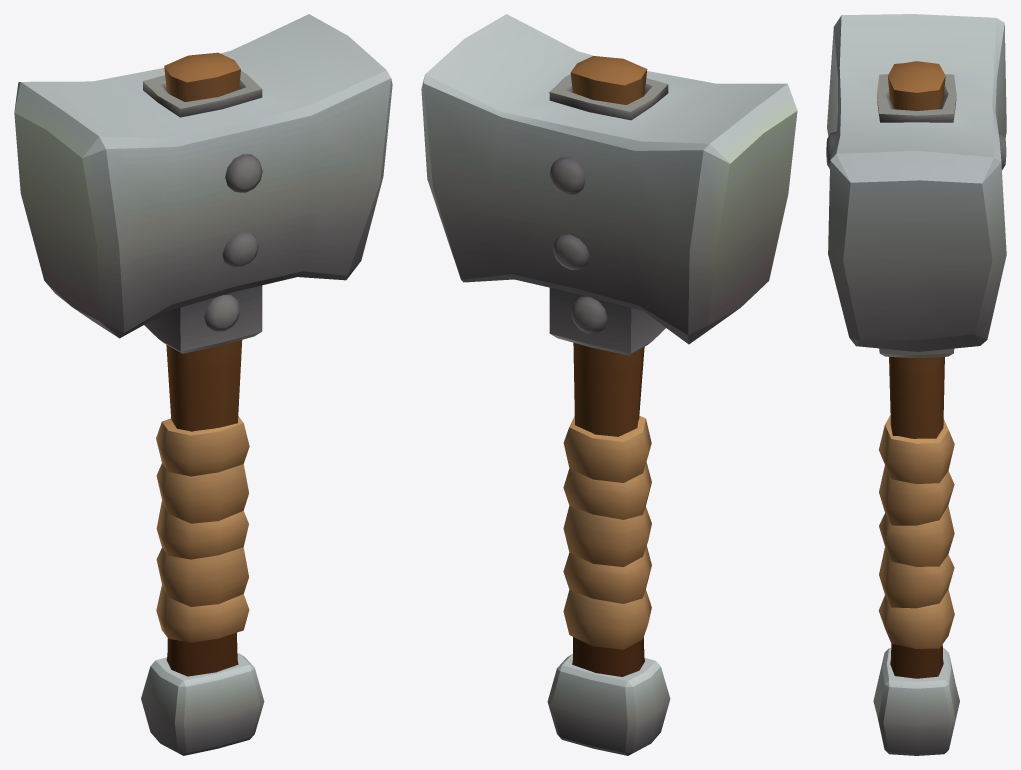
File: Hammer_05.glb
3 views of the same model, side by side, from view 1: azimuth 30°, elevation 25°; view 2: azimuth 150°, elevation 25°; view 3: azimuth 270°, elevation 25° (orthographic).
Parts seen in each view (by area): view 1: Hammer_05; view 2: Hammer_05; view 3: Hammer_05.
Part boxes in pixels (x1,y1,x2,y2): Hammer_05: [14, 14, 392, 755]; Hammer_05: [421, 14, 797, 755]; Hammer_05: [826, 14, 1006, 755].
Bounding box in the file's own units: 0.5263 × 1.08 × 0.2641.
1 material, 1 textured.
